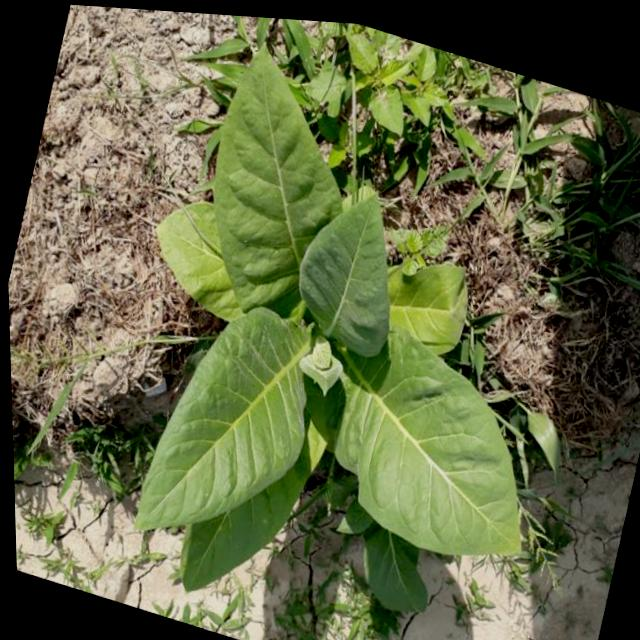Larvae: (133, 50, 518, 604)
